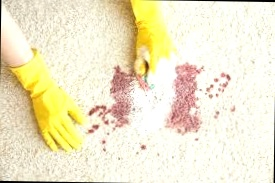wine: (83, 70, 137, 142), (169, 60, 206, 135), (204, 69, 233, 99), (209, 103, 238, 120), (131, 141, 153, 156)
